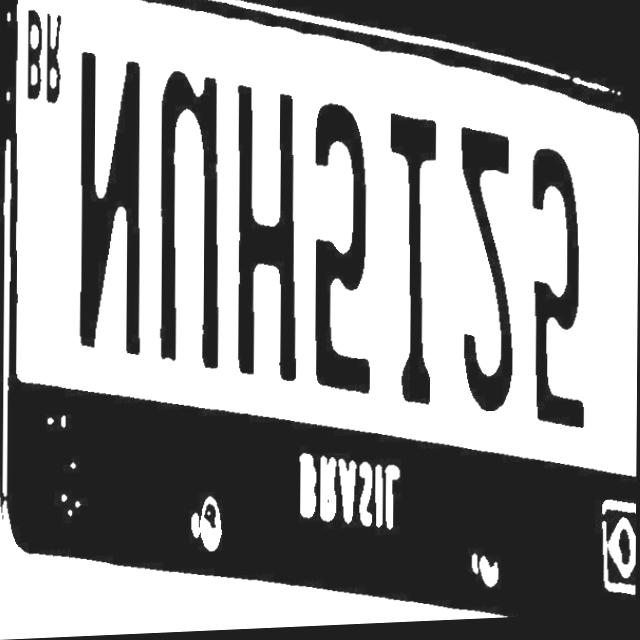2: (450, 142, 529, 445)
5: (307, 122, 382, 425), (529, 169, 597, 455)
h: (227, 103, 304, 408)
i: (382, 130, 449, 435)
n: (72, 53, 151, 378)
u: (150, 78, 228, 397)
